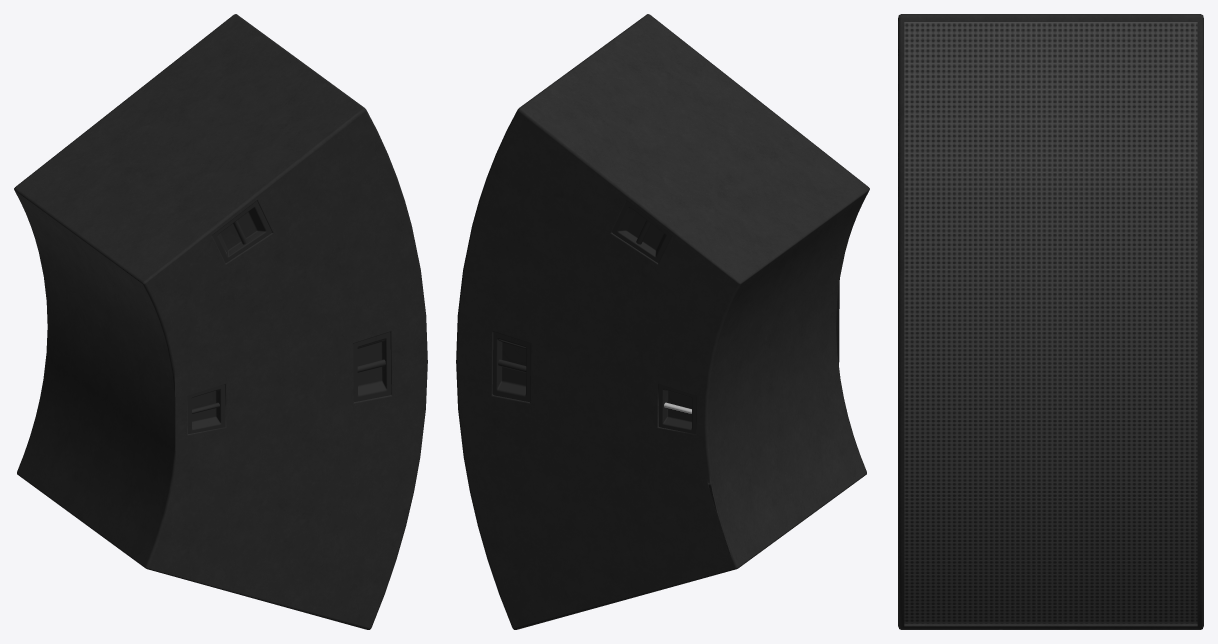
The model's file is SM_Speaker_04.fbx.
3 renders of one model, left to right at view 1: azimuth 30°, elevation 25°; view 2: azimuth 150°, elevation 25°; view 3: azimuth 270°, elevation 25°, orthographic. The views are drawn at different scales.
Parts seen in each view (by area): view 1: SM_Speaker_04_LOD0; view 2: SM_Speaker_04_LOD0; view 3: SM_Speaker_04_LOD0.
Part boxes in pixels (<box>): SM_Speaker_04_LOD0: <box>14,14,427,629</box>; SM_Speaker_04_LOD0: <box>456,14,869,629</box>; SM_Speaker_04_LOD0: <box>898,14,1203,629</box>.
Size of the model in its own units: 113 by 90 by 199.
Materials: 1 (1 with a texture image).
